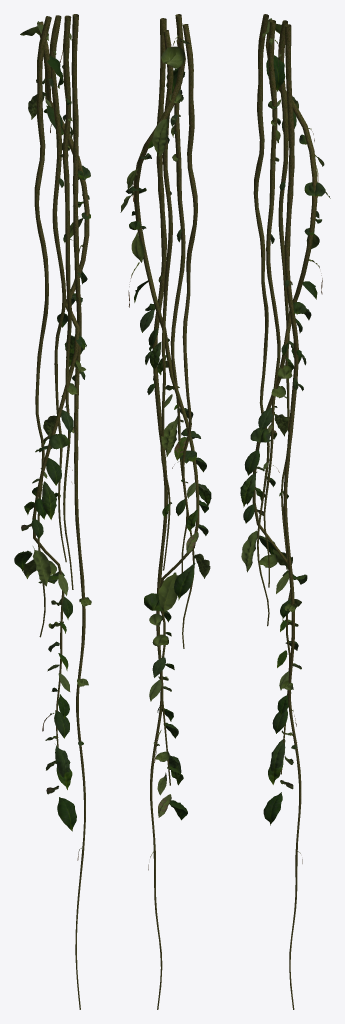
The model's file is SM_Vine_B.fbx.
The picture shows the model from 3 angles, left to right: view 1: azimuth 30°, elevation 25°; view 2: azimuth 150°, elevation 25°; view 3: azimuth 330°, elevation 25°; orthographic projection.
Parts seen in each view (by area): view 1: SM_Vine_B_LOD0; view 2: SM_Vine_B_LOD0; view 3: SM_Vine_B_LOD0.
Boxes of the visible parts, x1,y1,x2,y2 form: SM_Vine_B_LOD0: [14, 14, 91, 1009]; SM_Vine_B_LOD0: [120, 14, 211, 1009]; SM_Vine_B_LOD0: [240, 14, 330, 1009].
Bounding box in the file's own units: 77.32 × 71.46 × 1044.
